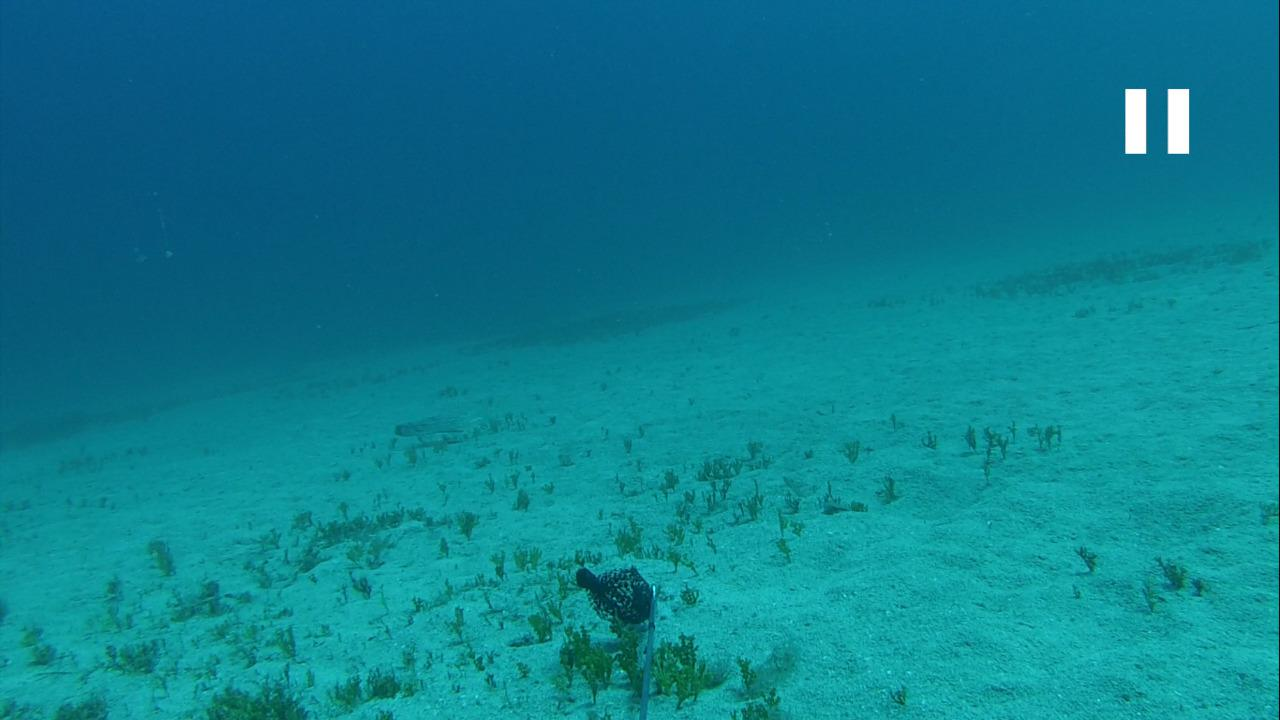dactylopterus: (379, 399, 497, 451)
